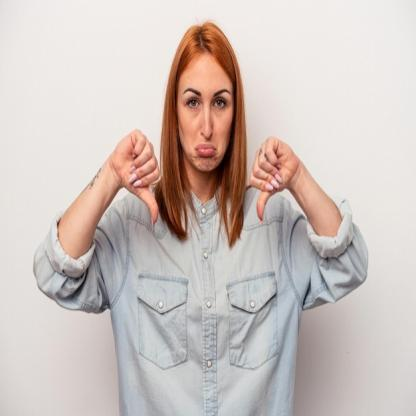thumb_down: (108, 125, 162, 231), (248, 131, 295, 225)
